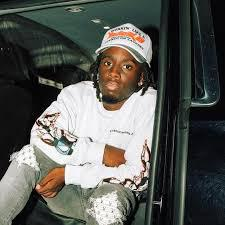kai-cenat: (96, 47, 149, 104)
